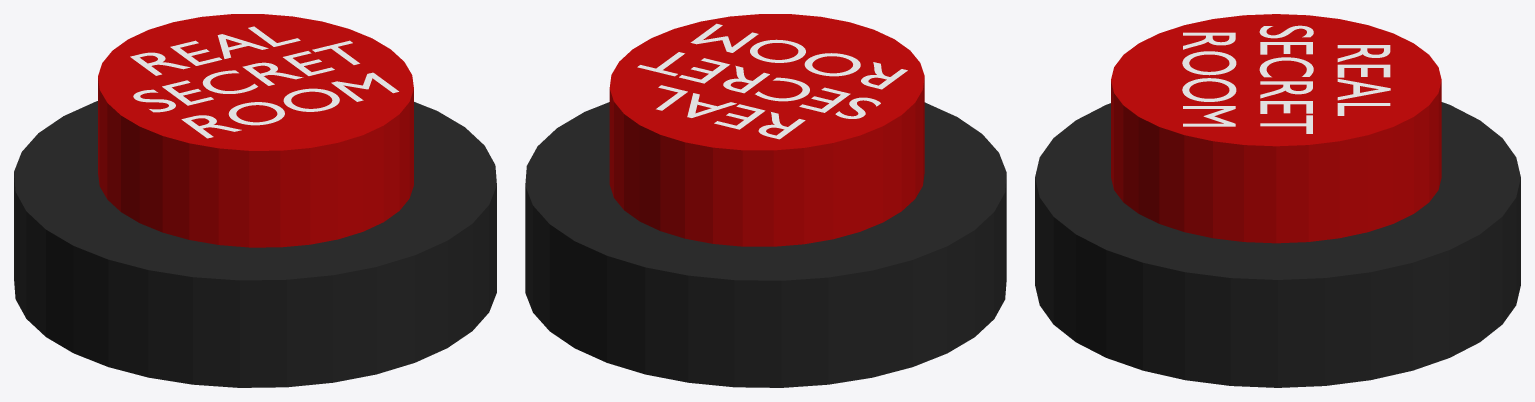
Rendered from RealButtonobj.obj.
3 views of the same model, side by side, from view 1: azimuth 30°, elevation 25°; view 2: azimuth 150°, elevation 25°; view 3: azimuth 270°, elevation 25° (orthographic).
Visible parts, largest first — view 1: RealSecretRoom_button_Cylinder.002; view 2: RealSecretRoom_button_Cylinder.002; view 3: RealSecretRoom_button_Cylinder.002.
Boxes of the visible parts, bbox=[...] form: RealSecretRoom_button_Cylinder.002: bbox=[14, 14, 496, 387]; RealSecretRoom_button_Cylinder.002: bbox=[525, 14, 1006, 387]; RealSecretRoom_button_Cylinder.002: bbox=[1035, 14, 1520, 387].
Size of the model in its own units: 0.7321 by 0.3425 by 0.7321.
